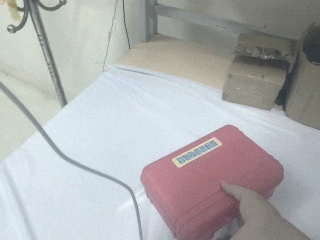box: (135, 123, 291, 240), (223, 33, 292, 110)
